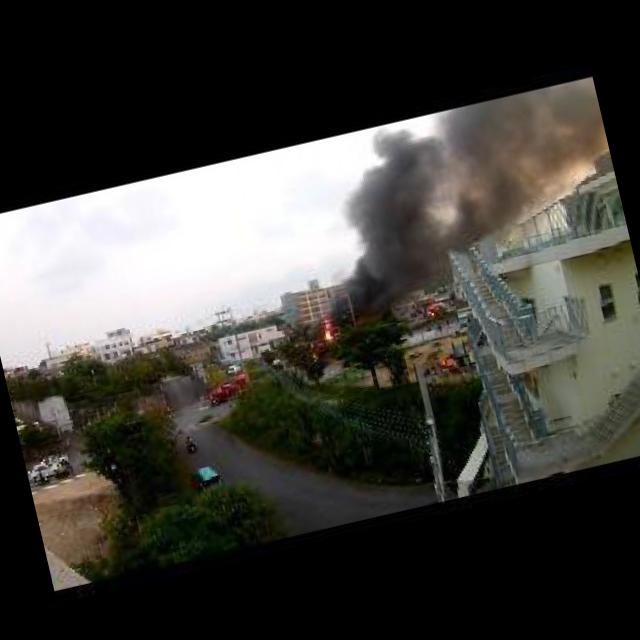fire: (318, 319, 334, 340)
smoke: (302, 119, 462, 332), (420, 76, 620, 238)
